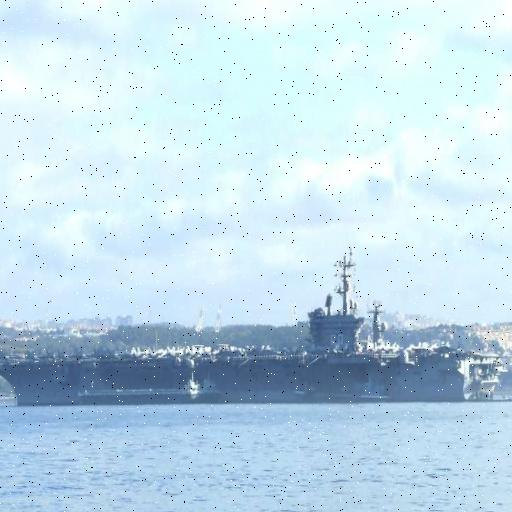Portanaves: (1, 247, 507, 409)
